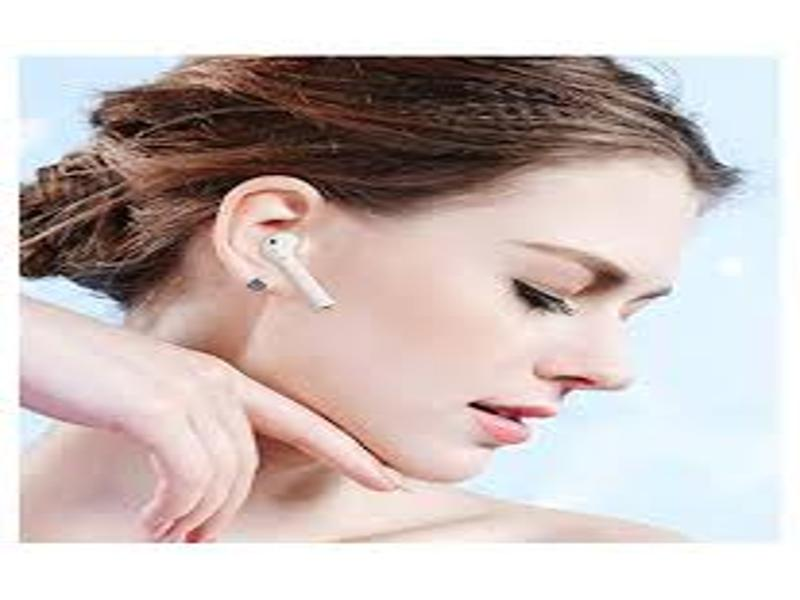headphone: (263, 233, 337, 312)
